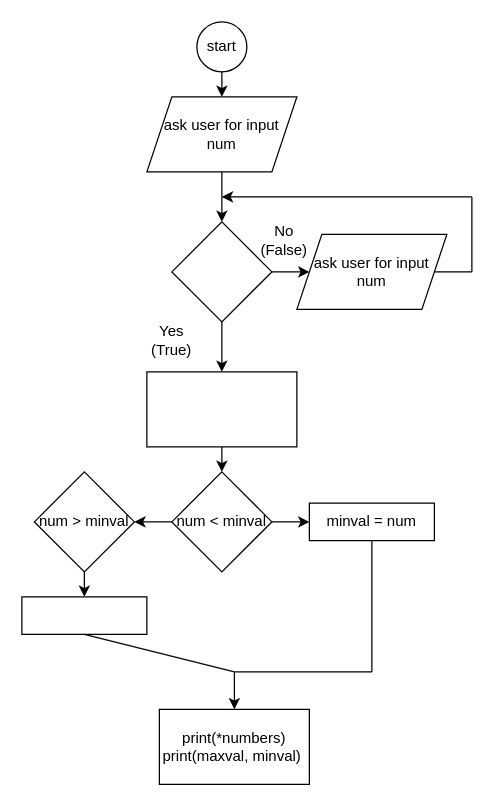
Image size: 504x806. Some labels were removed from this diagram. Here are the shapes that lost their labels. From the top down, the centre of each, then its label:
At (221,271): "Is this the 5th input?".
At (221,409): "minval = numbers[0] maxval = numbers[0]".
At (84,615): "maxval = num".
